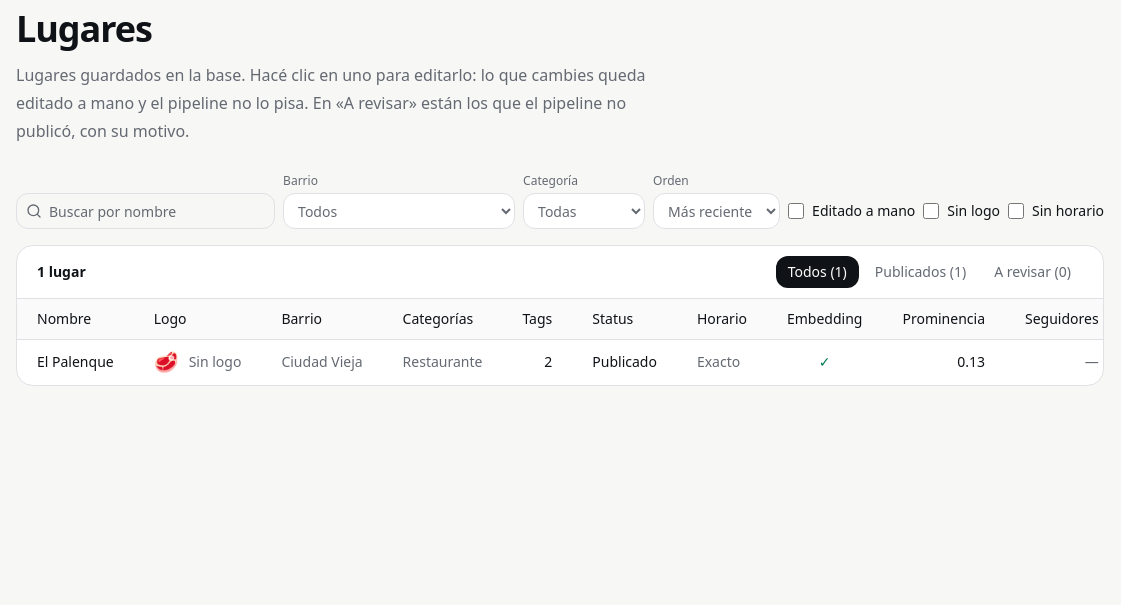
Test: SavedPlacesPage › A revisar vacío
Click the button "A revisar (0)".
click(1033, 272)  # box [982,256,1083,288]
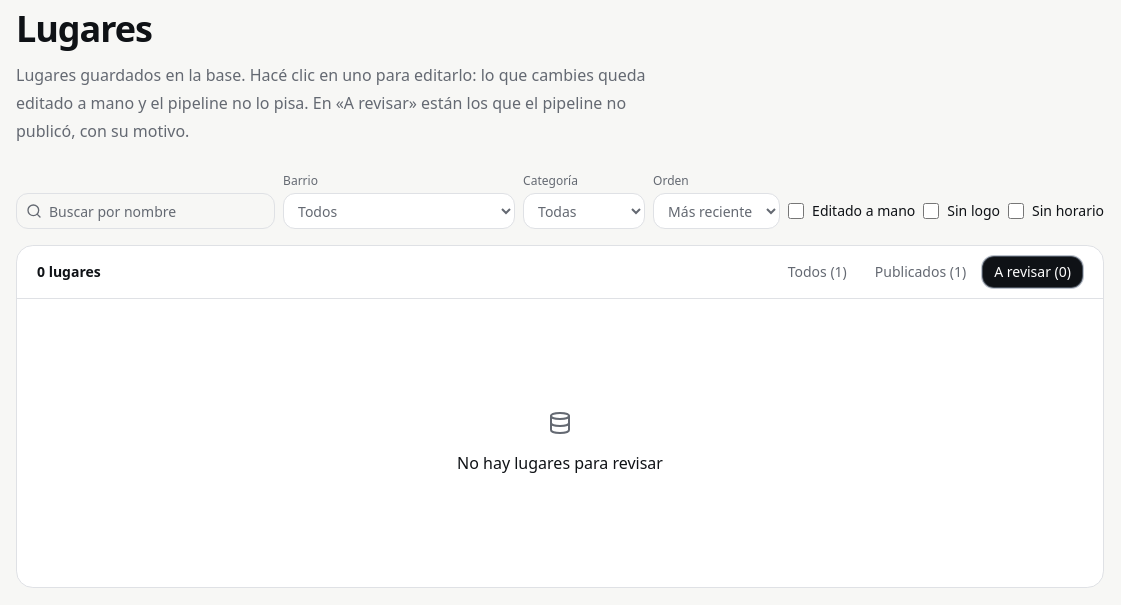
Check: the text "No hay lugares para revisar" is shown, box [457,451,663,475]
